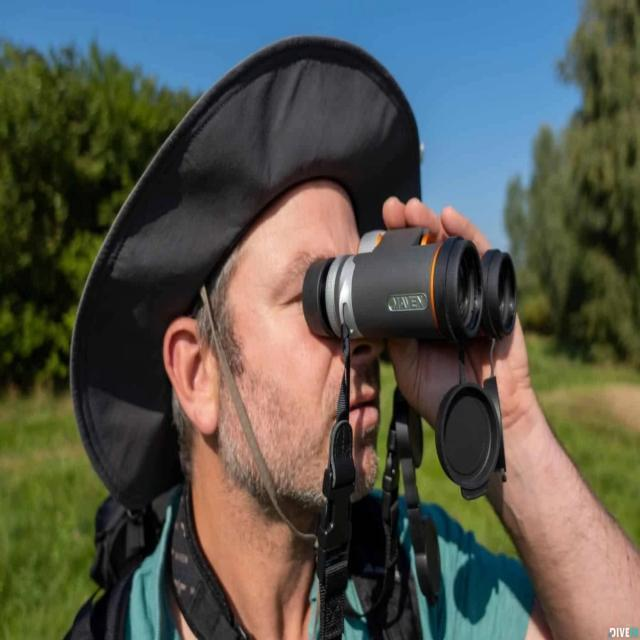Binocular: (302, 222, 528, 353)
